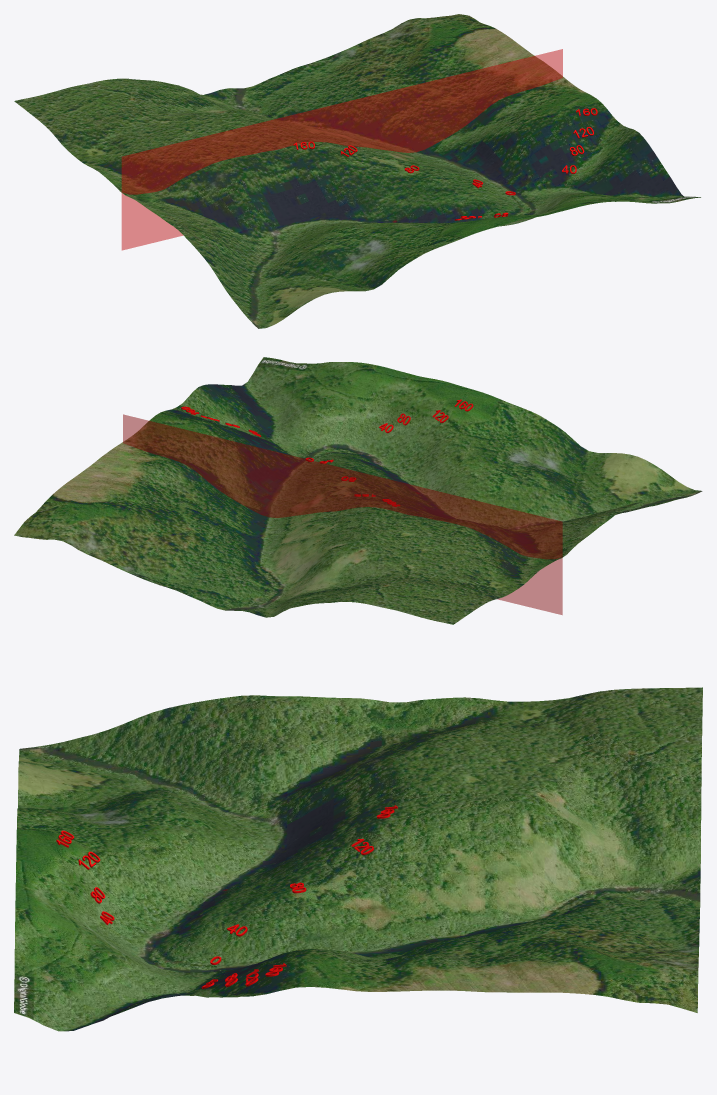
Rendered from SaoJoseAusentes2a.glb.
3 views of the same model, one above another, from view 1: azimuth 30°, elevation 25°; view 2: azimuth 150°, elevation 25°; view 3: azimuth 270°, elevation 25° (orthographic). The views are drawn at different scales.
Visible parts, largest first — view 1: Location Terrain, root; view 2: Location Terrain, root; view 3: Location Terrain.
Part boxes in pixels (x1,y1,x2,y2): Location Terrain: (14, 14, 700, 328); root: (121, 49, 562, 250); Location Terrain: (14, 357, 702, 624); root: (123, 414, 562, 614); Location Terrain: (14, 687, 702, 1031).
Size of the model in its own units: 2014 by 406 by 1950.
3 materials, 1 textured.
